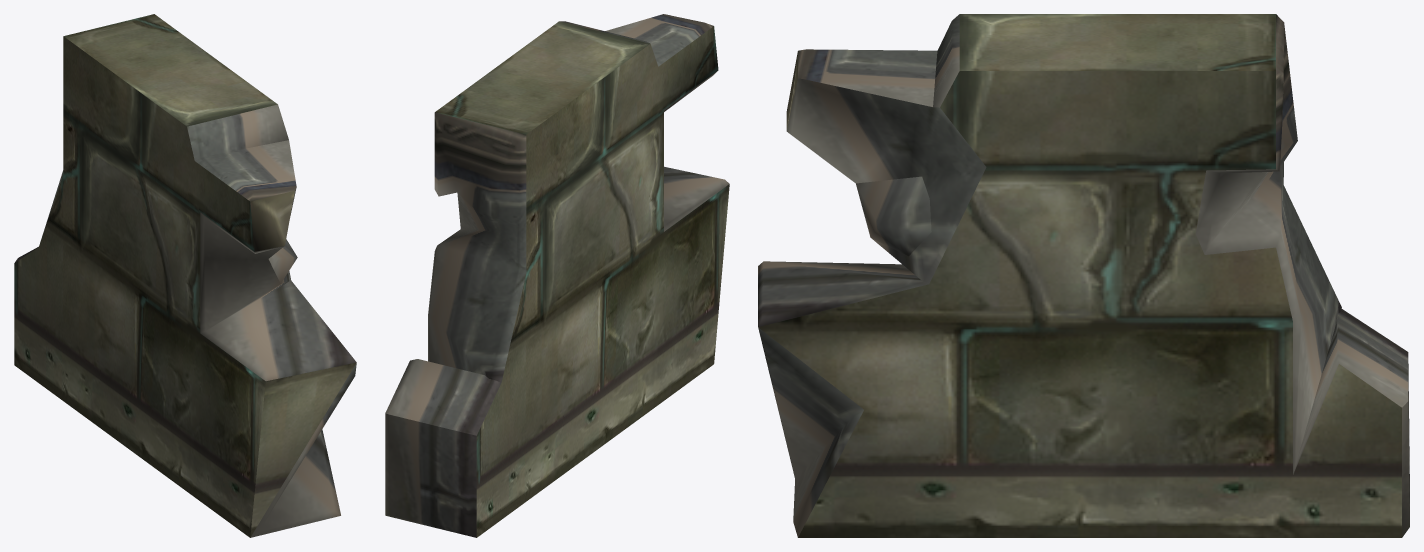
File: F_waiqiang0015.fbx
The picture shows the model from 3 angles, left to right: view 1: azimuth 30°, elevation 25°; view 2: azimuth 150°, elevation 25°; view 3: azimuth 270°, elevation 25°; orthographic projection. The views are drawn at different scales.
Parts seen in each view (by area): view 1: F_waiqiang0015; view 2: F_waiqiang0015; view 3: F_waiqiang0015.
Boxes of the visible parts, x1,y1,x2,y2 form: F_waiqiang0015: [14, 14, 356, 537]; F_waiqiang0015: [385, 14, 729, 537]; F_waiqiang0015: [758, 14, 1409, 537].
Bounding box in the file's own units: 31.2 × 118 × 150.
